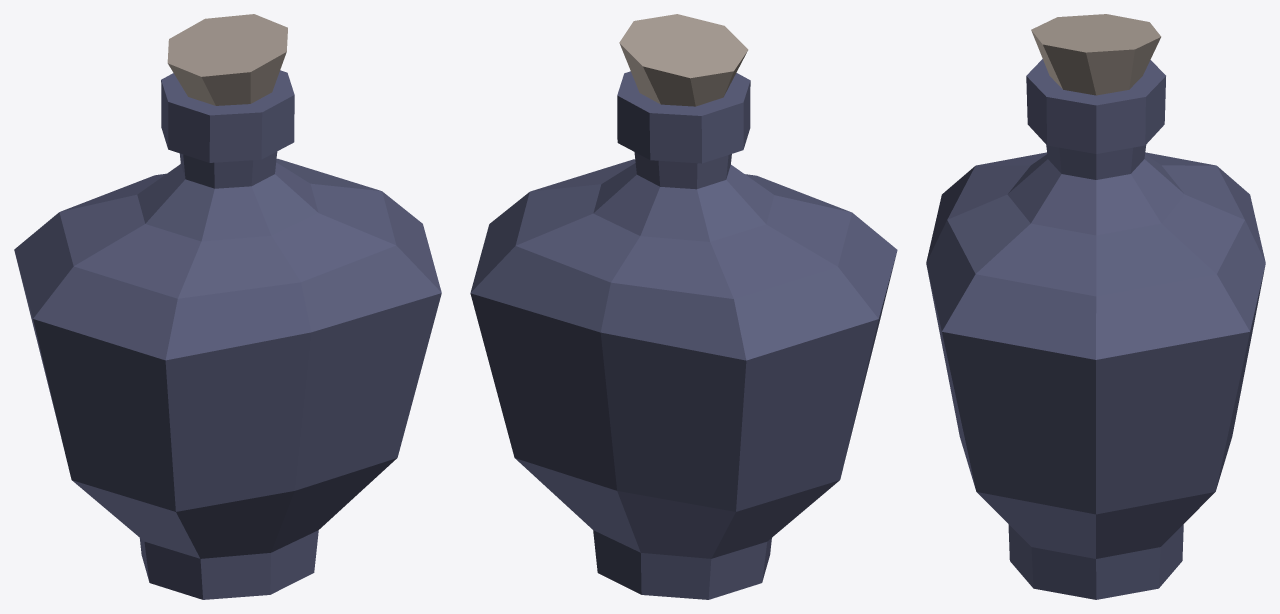
File: Bottle_03.fbx
3 views of the same model, side by side, from view 1: azimuth 30°, elevation 25°; view 2: azimuth 150°, elevation 25°; view 3: azimuth 270°, elevation 25° (orthographic).
Visible parts, largest first — view 1: Bottle_03; view 2: Bottle_03; view 3: Bottle_03.
Part boxes in pixels (box(x1,y1,x2,y2)): Bottle_03: box(14, 14, 441, 599); Bottle_03: box(470, 14, 897, 599); Bottle_03: box(926, 14, 1265, 599).
Size of the model in its own units: 1.62 by 2.09 by 1.2.
